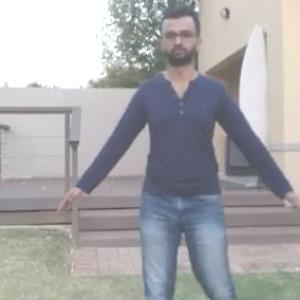land: (73, 25, 299, 298)
